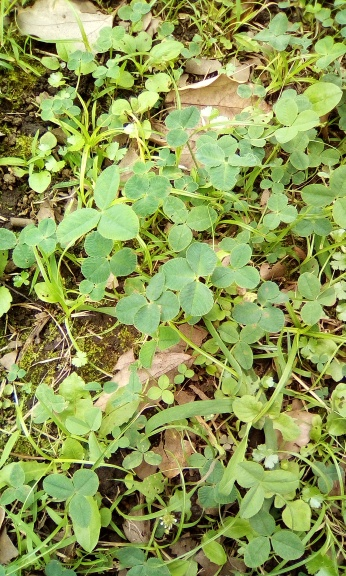4leaf: (115, 272, 180, 335)
